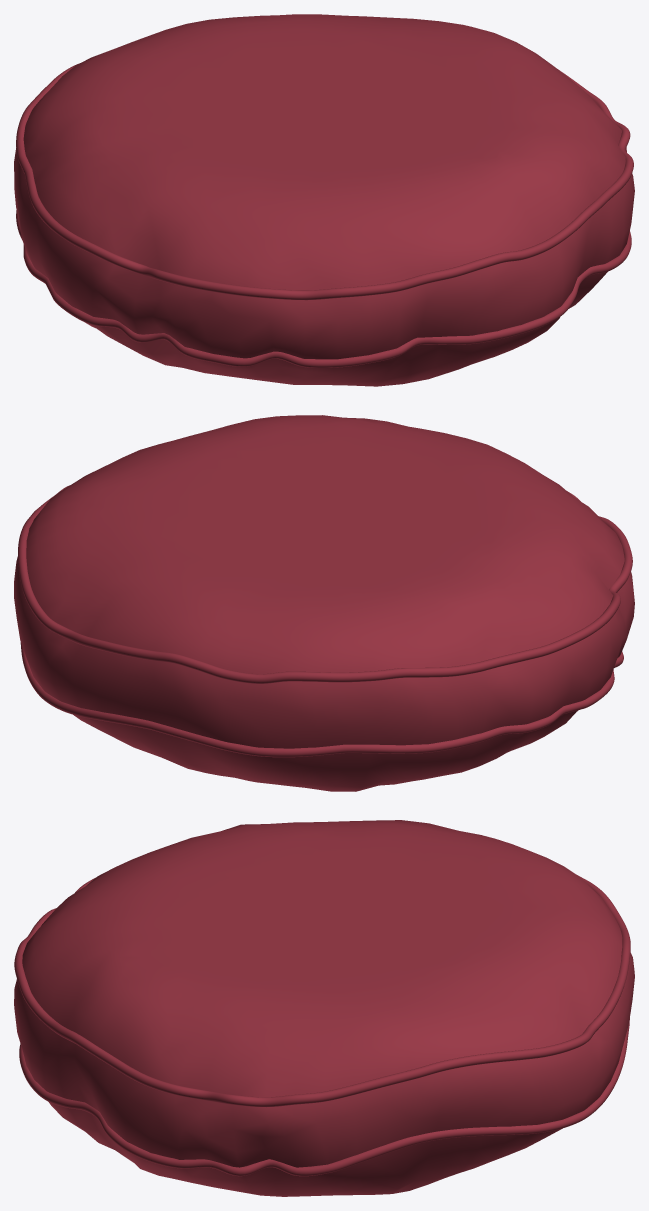
File: Puff2.fbx
3 views of the same model, one above another, from view 1: azimuth 30°, elevation 25°; view 2: azimuth 150°, elevation 25°; view 3: azimuth 270°, elevation 25° (orthographic).
Parts seen in each view (by area): view 1: Puff2; view 2: Puff2; view 3: Puff2.
Part boxes in pixels (x1,y1,x2,y2): Puff2: (14,14,634,386); Puff2: (14,415,634,791); Puff2: (14,820,634,1196).
Bounding box in the file's own units: 0.3839 × 0.1457 × 0.3755.
